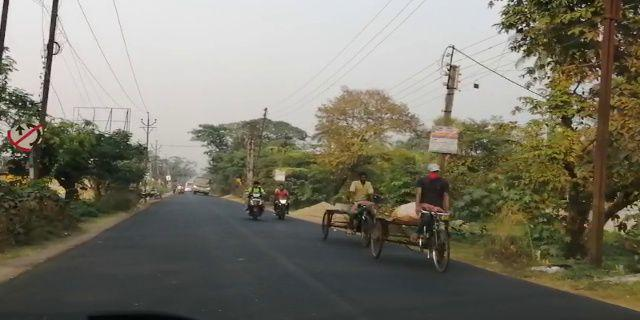Motorbike: (242, 173, 269, 222), (270, 176, 298, 221)
Van: (364, 160, 464, 272), (317, 175, 378, 245)
